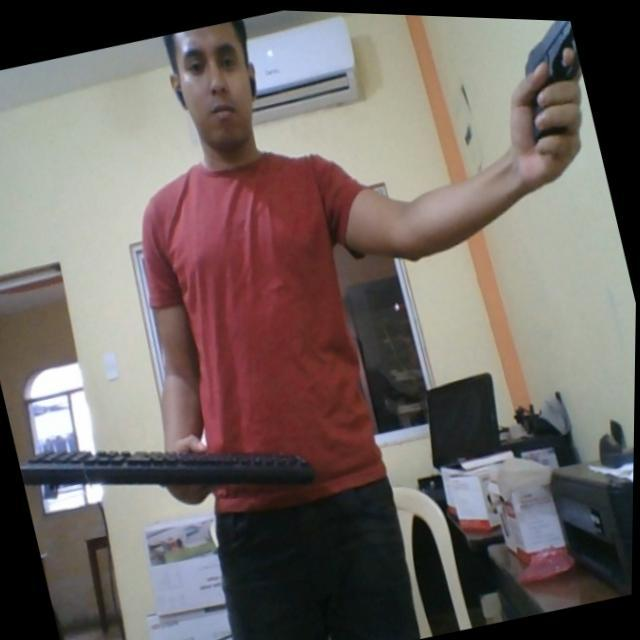weapon: (479, 14, 601, 161)
